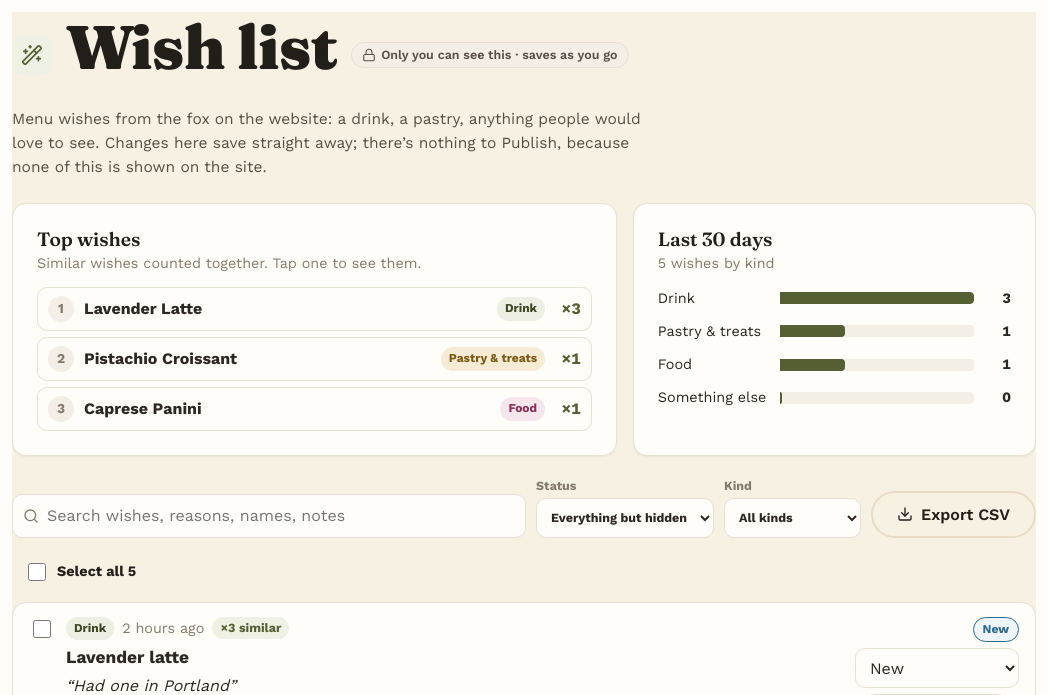
Test: admin Wish list › tapping a top wish shows just that group
The width and height of the screenshot is (1048, 695).
Step 1. Click the button "1 Lavender Latte Drink ×3" → (143, 309), box top-left (37, 287), bottom-right (592, 331)
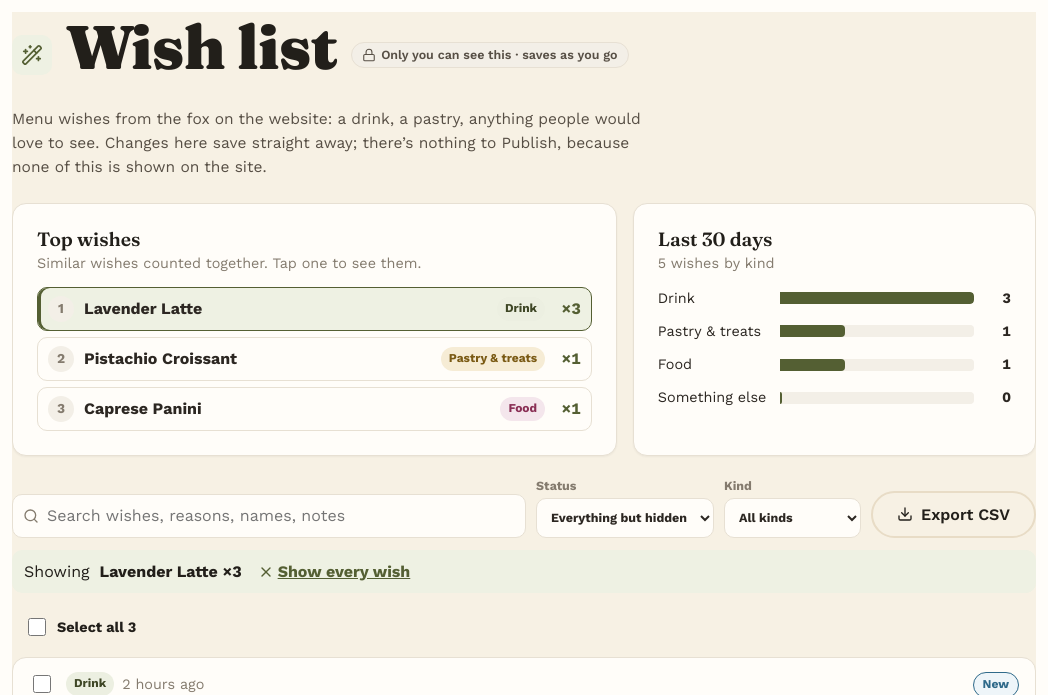
Result: the number of list items with class "wl-card" is 3
Result: the text "Showing Lavender Latte ×3 Show every wish" is shown at top-left (12, 550), bottom-right (1036, 594)
Step 2. Click the button "Show every wish" → (334, 572), box top-left (252, 558), bottom-right (416, 586)
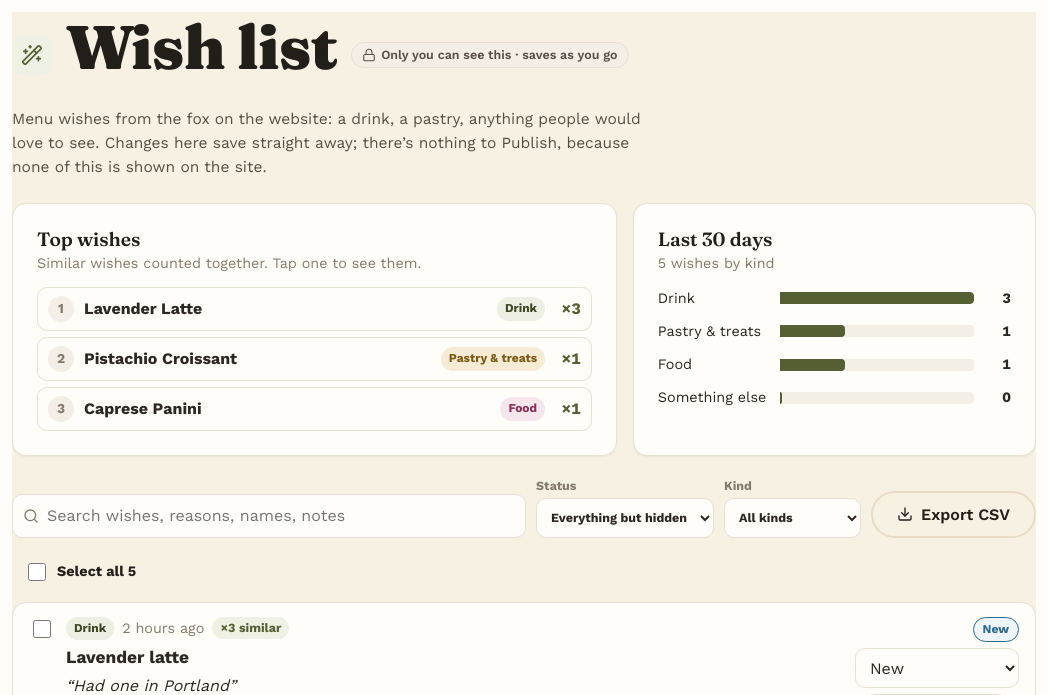
Result: the number of list items with class "wl-card" is 5
